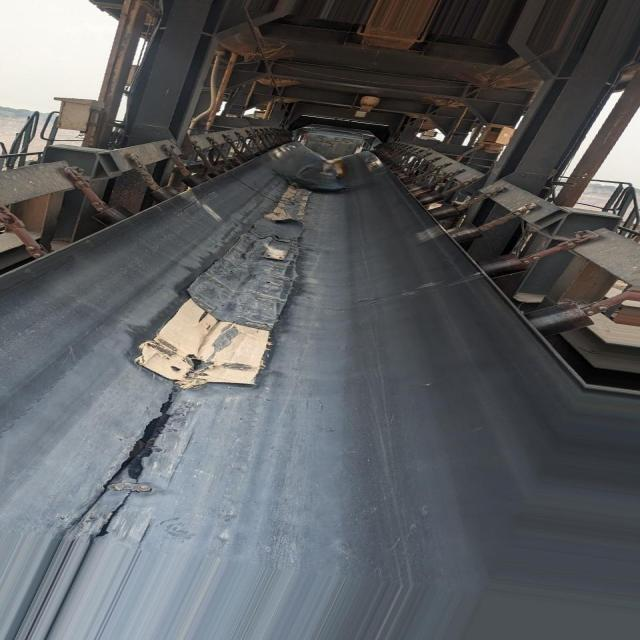Tear: (68, 378, 186, 532), (97, 488, 139, 541)
